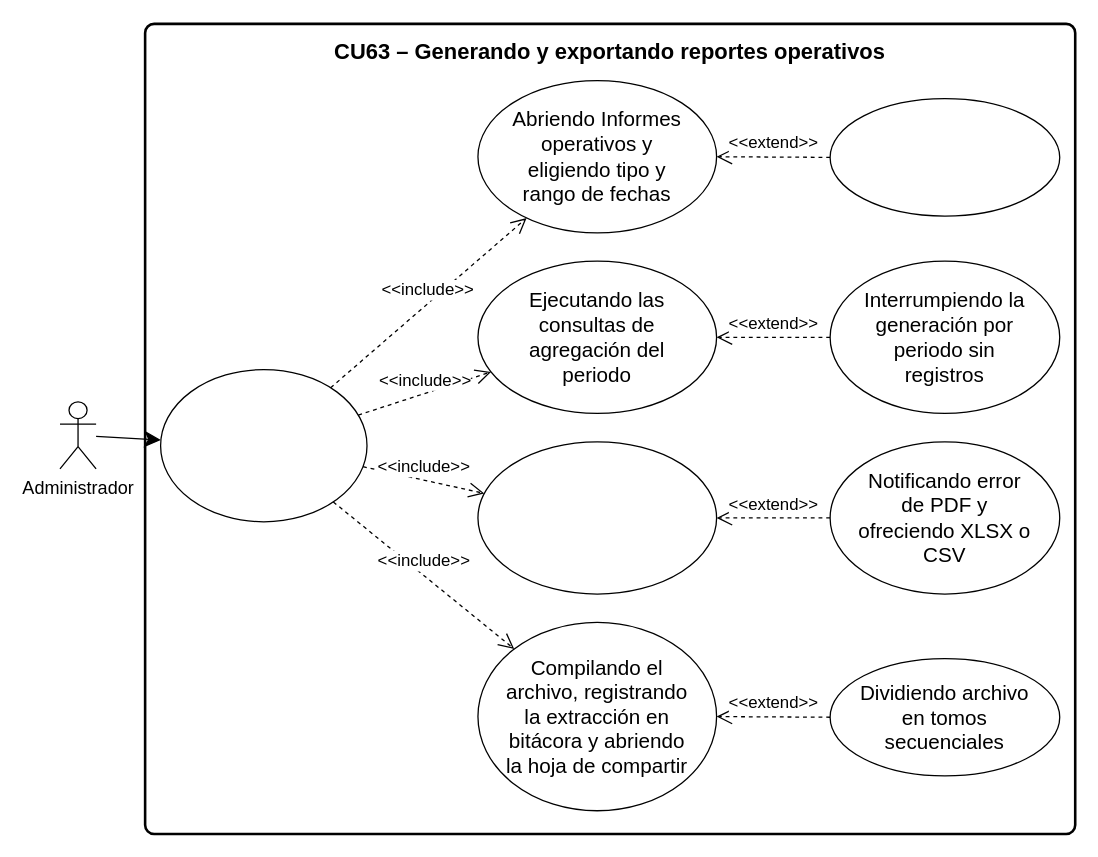
Image size: 1098x857. Some labels were removed from this diagram. Each missing label, with the centre of its shape:
"Declarando límites temporales inválidos" belongs at point (944, 156).
"Eligiendo el formato de salida (XLSX, PDF o CSV)" belongs at point (597, 517).
"Generando y exportando reportes operativos" belongs at point (263, 445).
